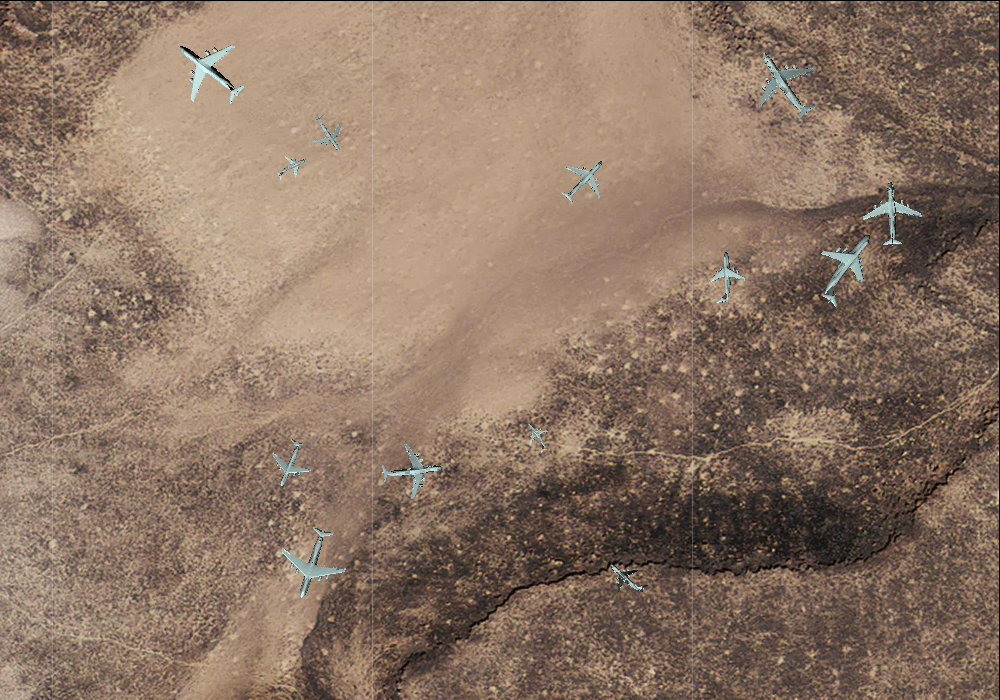plane: (156, 18, 262, 123), (734, 31, 837, 135), (797, 216, 899, 320), (268, 518, 355, 608), (548, 144, 619, 215), (859, 179, 924, 247), (377, 438, 445, 503), (258, 431, 320, 495), (600, 550, 655, 606), (301, 106, 356, 161), (701, 250, 748, 304), (515, 415, 557, 459), (270, 147, 313, 188)
